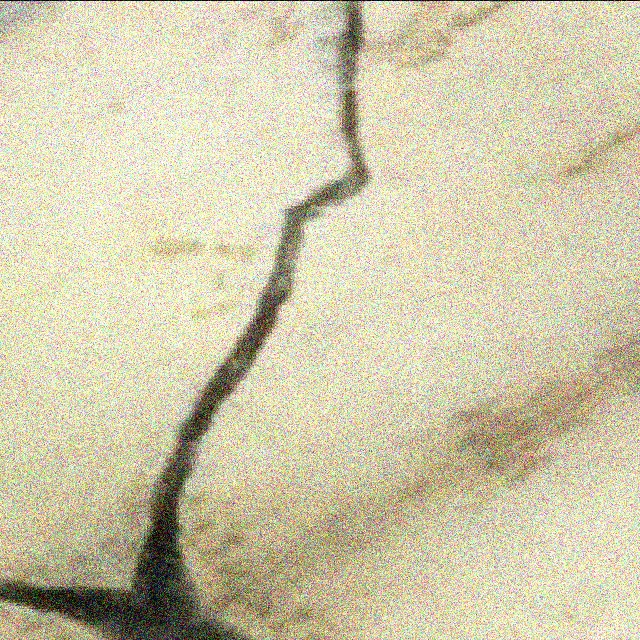SurfaceCrack: (10, 0, 380, 640)
